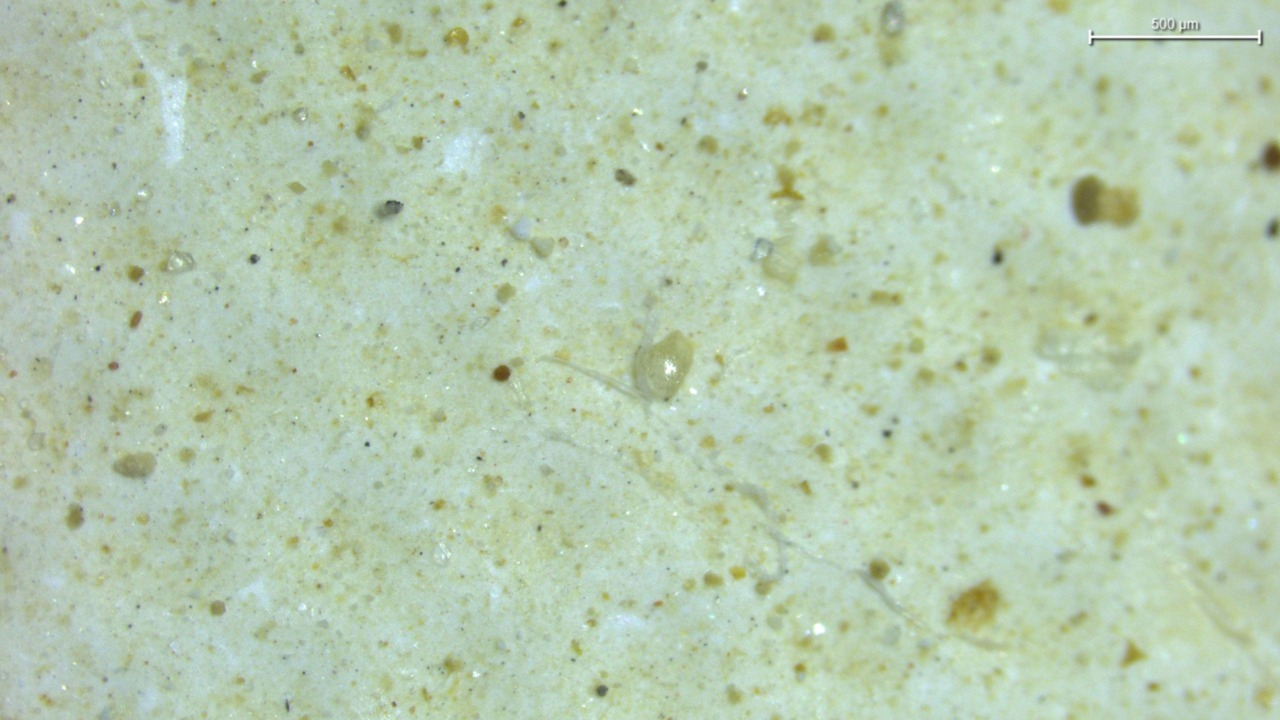microplastic_fragment: (633, 330, 694, 400)
